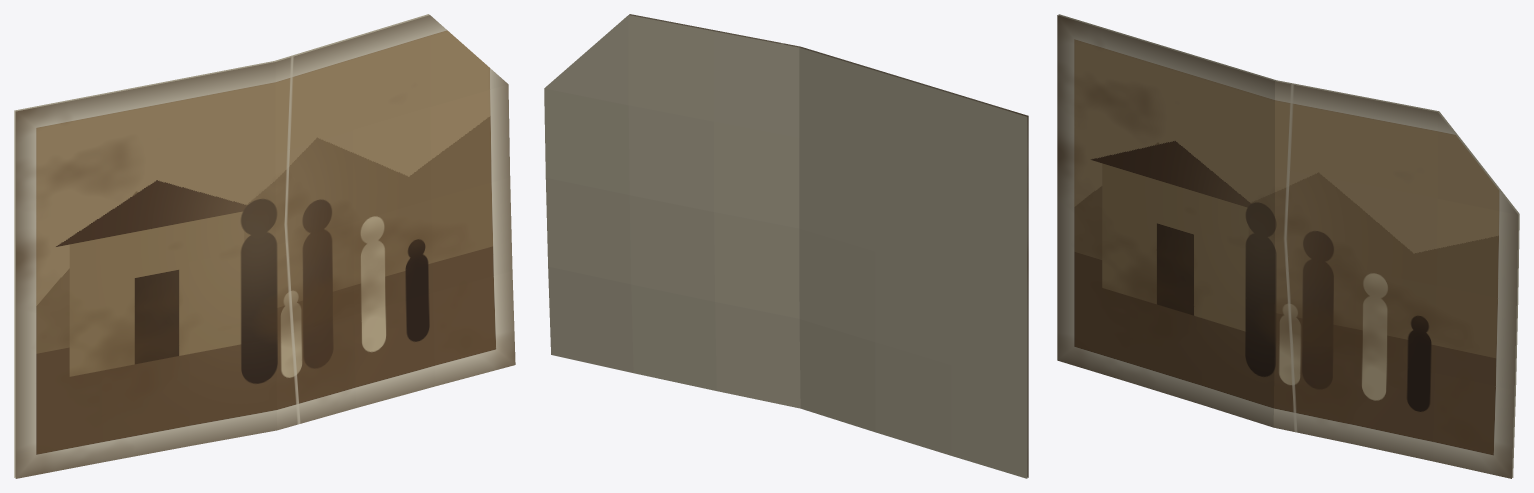
Rendered from family_photo.glb.
The picture shows the model from 3 angles, left to right: view 1: azimuth 30°, elevation 25°; view 2: azimuth 150°, elevation 25°; view 3: azimuth 330°, elevation 25°; orthographic projection. The views are drawn at different scales.
Parts seen in each view (by area): view 1: family_photo; view 2: family_photo; view 3: family_photo.
Boxes of the visible parts, bbox=[...] form: family_photo: bbox=[14, 14, 515, 478]; family_photo: bbox=[544, 14, 1028, 478]; family_photo: bbox=[1057, 14, 1519, 478].
Size of the model in its own units: 0.14 by 0.1 by 0.0084.
Materials: 2 (1 with a texture image).
